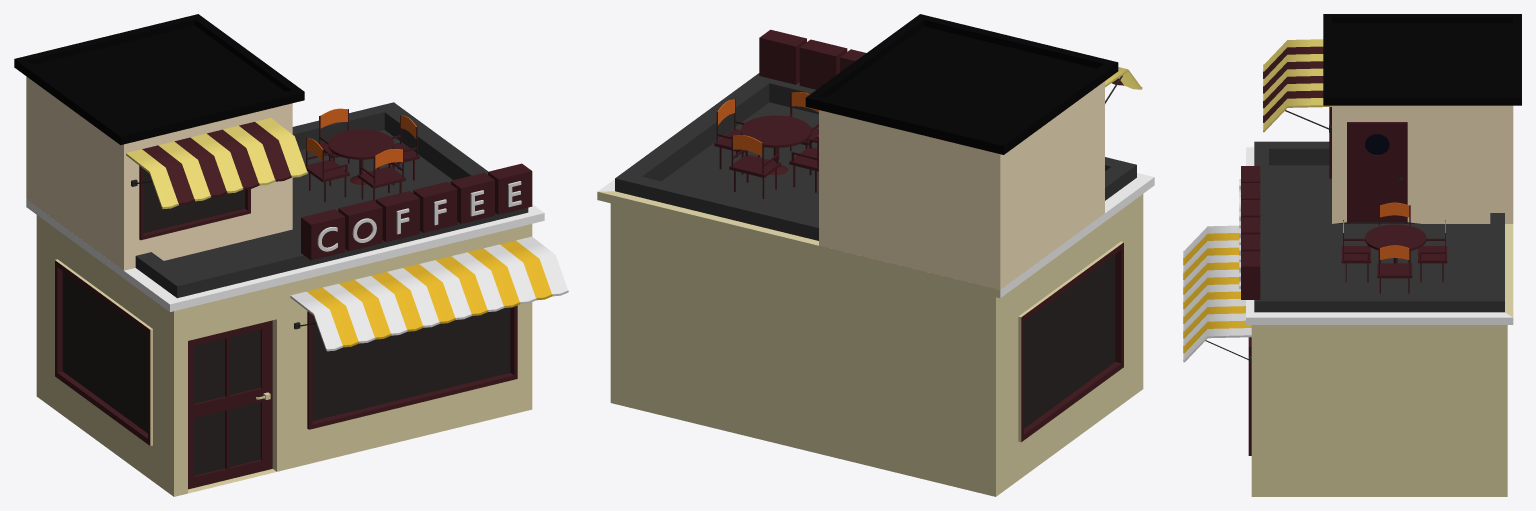
The model's file is Cofee Shop.fbx.
3 renders of one model, left to right at view 1: azimuth 30°, elevation 25°; view 2: azimuth 150°, elevation 25°; view 3: azimuth 270°, elevation 25°, orthographic. The views are drawn at different scales.
Visible parts, largest first — view 1: Cube.008; view 2: Cube.008; view 3: Cube.008.
Part boxes in pixels (x1,y1,x2,y2): Cube.008: (14, 14, 568, 496); Cube.008: (597, 14, 1154, 496); Cube.008: (1183, 14, 1521, 496).
Bounding box in the file's own units: 638 × 535 × 525.
